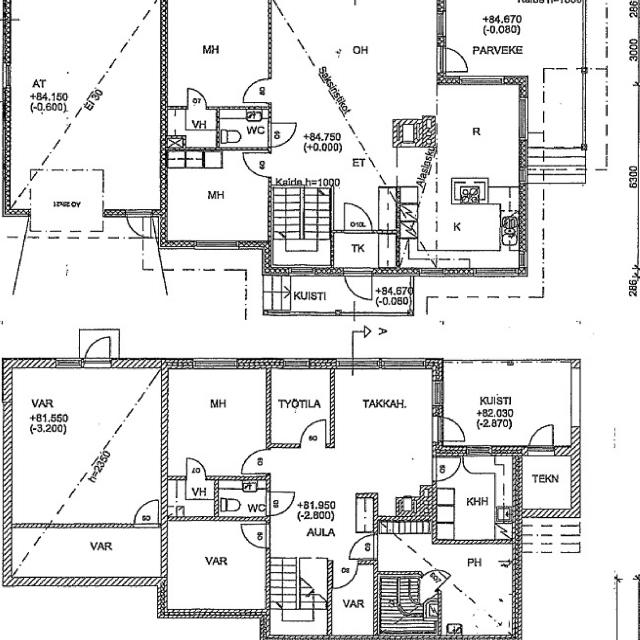door: (345, 267, 372, 302), (421, 562, 451, 591), (528, 421, 552, 456), (344, 203, 372, 233), (85, 334, 109, 368), (436, 48, 470, 72), (432, 417, 466, 440), (348, 534, 377, 559), (127, 209, 150, 240), (300, 420, 325, 448), (241, 524, 270, 548), (242, 153, 271, 177), (266, 492, 294, 516), (333, 560, 357, 588), (243, 79, 271, 103), (241, 450, 270, 473), (134, 500, 158, 527), (268, 123, 295, 147), (432, 457, 459, 480), (187, 458, 205, 480), (188, 88, 206, 109)
